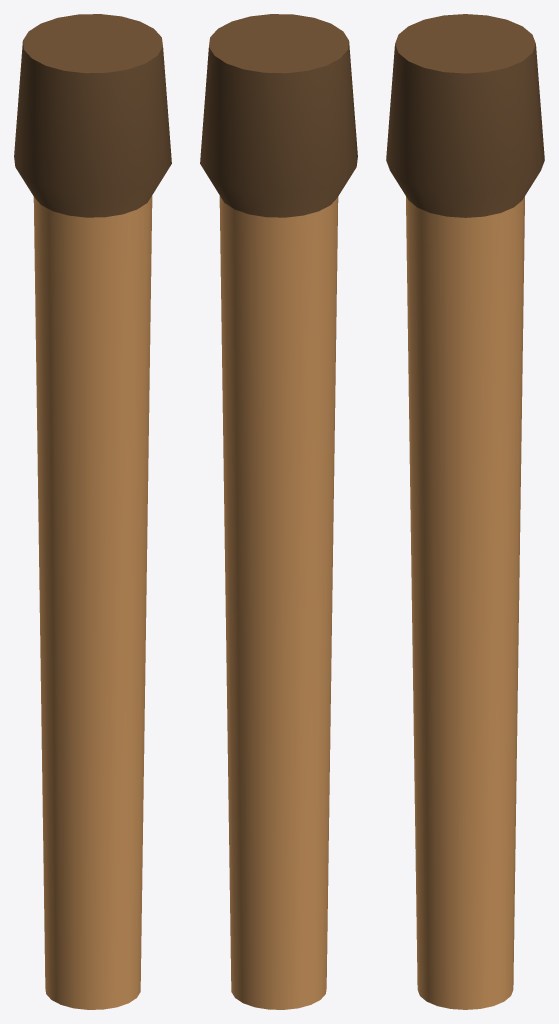
The model's file is Handheld Torch.fbx.
The picture shows the model from 3 angles, left to right: view 1: azimuth 30°, elevation 25°; view 2: azimuth 150°, elevation 25°; view 3: azimuth 270°, elevation 25°; orthographic projection.
Parts seen in each view (by area): view 1: pCylinder1; view 2: pCylinder1; view 3: pCylinder1.
Boxes of the visible parts, box(x1,y1,x2,y2) form: pCylinder1: box(14, 14, 171, 1009); pCylinder1: box(200, 14, 357, 1009); pCylinder1: box(386, 14, 544, 1009).
Size of the model in its own units: 2.66 by 17.49 by 2.66.
